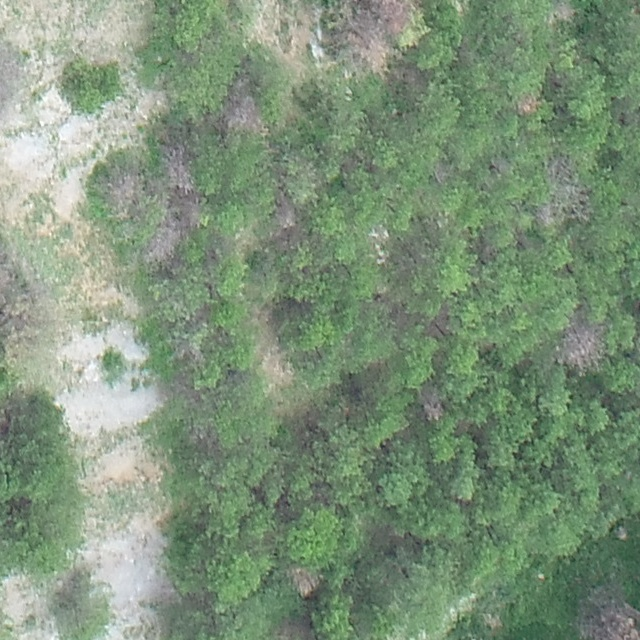unhealthy: (544, 155, 591, 224), (345, 9, 391, 72), (556, 322, 603, 372), (583, 599, 640, 640), (104, 165, 143, 214), (143, 219, 185, 264), (160, 143, 196, 193), (222, 94, 265, 134), (257, 348, 294, 386), (286, 565, 321, 599), (0, 50, 24, 97), (273, 616, 315, 640), (374, 0, 420, 21), (272, 194, 299, 229), (417, 390, 446, 422), (173, 338, 206, 366), (394, 65, 426, 90), (551, 0, 577, 24), (515, 93, 539, 118), (430, 160, 453, 184)
